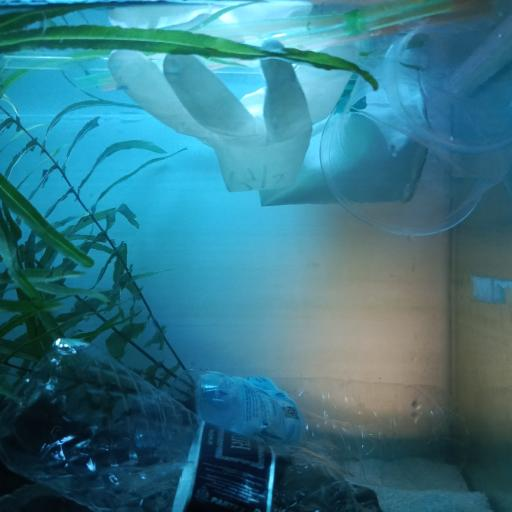glove: (108, 42, 430, 206)
plastic_bottle: (2, 339, 362, 512), (162, 363, 473, 484)
plastic_cup: (319, 24, 512, 235)
plastic_straw: (196, 1, 432, 36), (4, 54, 313, 71)
